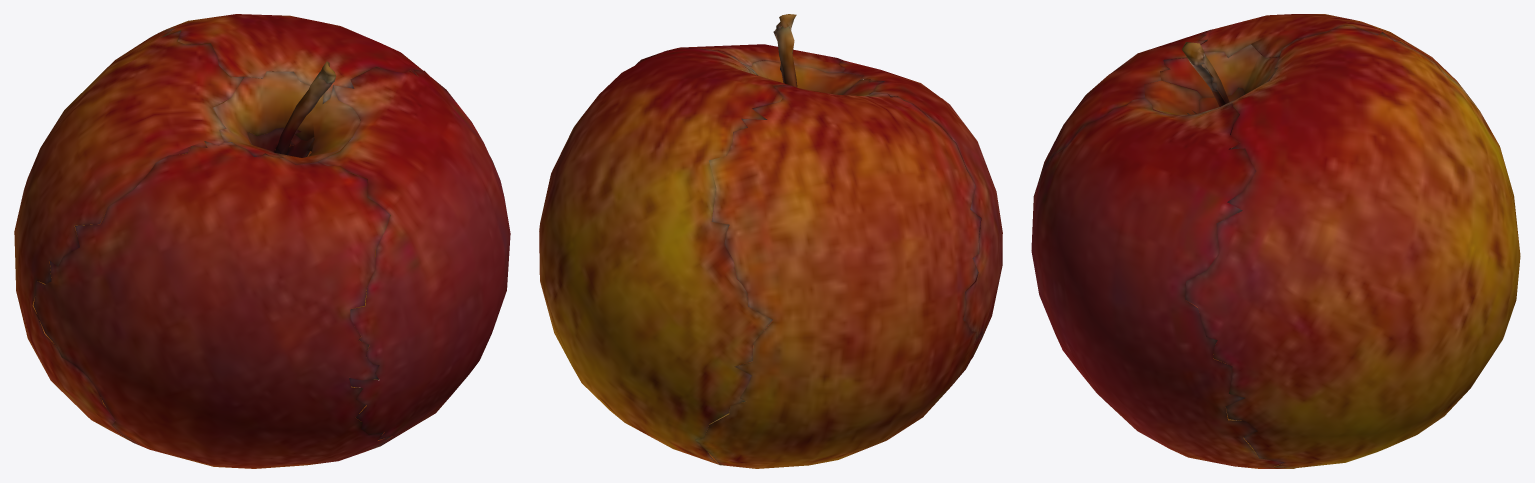
File: maca.glb
3 views of the same model, side by side, from view 1: azimuth 30°, elevation 25°; view 2: azimuth 150°, elevation 25°; view 3: azimuth 270°, elevation 25° (orthographic). The views are drawn at different scales.
Parts seen in each view (by area): view 1: Malha; view 2: Malha; view 3: Malha.
Boxes of the visible parts, x1,y1,x2,y2 form: Malha: [14, 14, 510, 468]; Malha: [539, 14, 1002, 468]; Malha: [1031, 14, 1520, 468].
Size of the model in its own units: 0.0849 by 0.0744 by 0.0837.
1 material, 1 textured.
